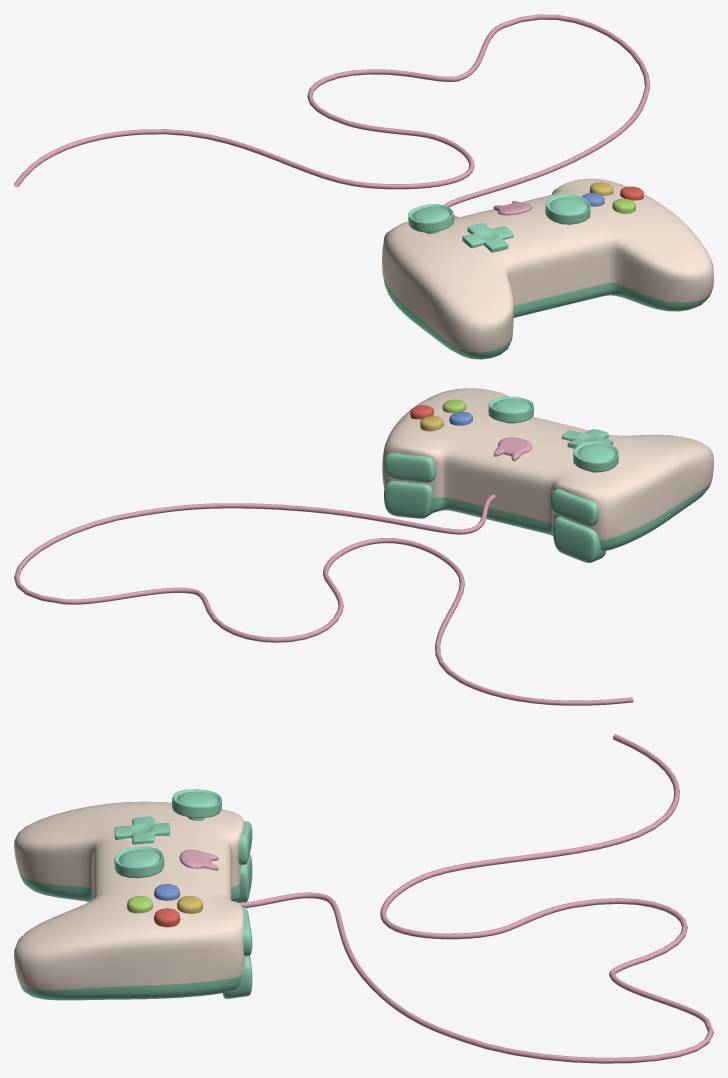
The model's file is gamepad-transformed-C2z2Gqq1.glb.
3 renders of one model, top to bottom at view 1: azimuth 30°, elevation 25°; view 2: azimuth 150°, elevation 25°; view 3: azimuth 270°, elevation 25°, orthographic. The views are drawn at different scales.
Visible parts, largest first — view 1: manette_Material.007_0; view 2: manette_Material.007_0; view 3: manette_Material.007_0.
Part boxes in pixels (bbox=[...]): manette_Material.007_0: bbox=[14, 14, 713, 359]; manette_Material.007_0: bbox=[14, 388, 713, 705]; manette_Material.007_0: bbox=[14, 734, 713, 1063].
Bounding box in the file's own units: 5.22 × 0.7912 × 4.74.
1 material, 1 textured.
